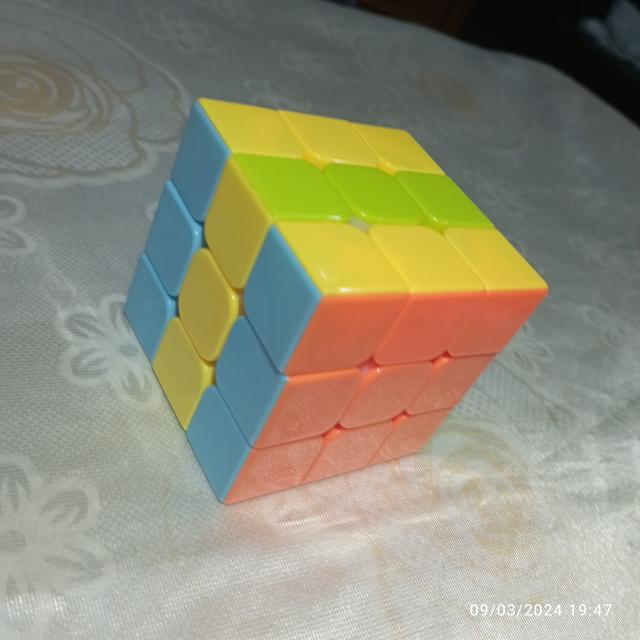Rub: (120, 93, 551, 505)
